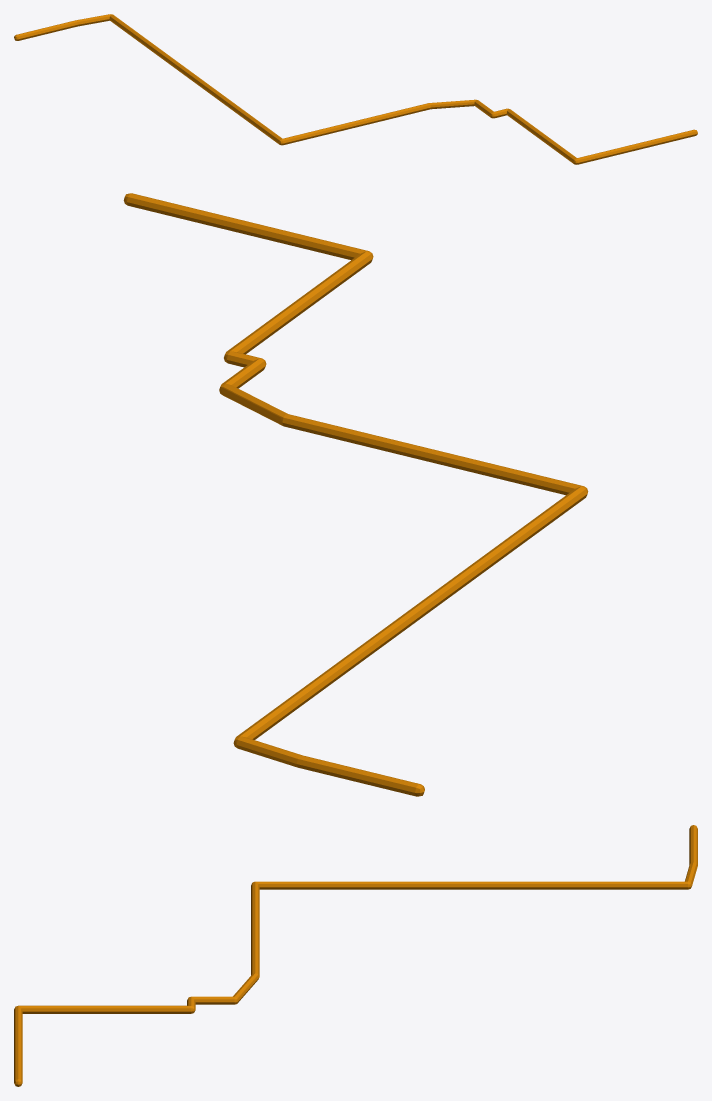
3 renders of one model, top to bottom at view 1: azimuth 30°, elevation 25°; view 2: azimuth 150°, elevation 25°; view 3: azimuth 270°, elevation 25°, orthographic. The views are drawn at different scales.
Size of the model in its own units: 1409 by 20 by 1581.
